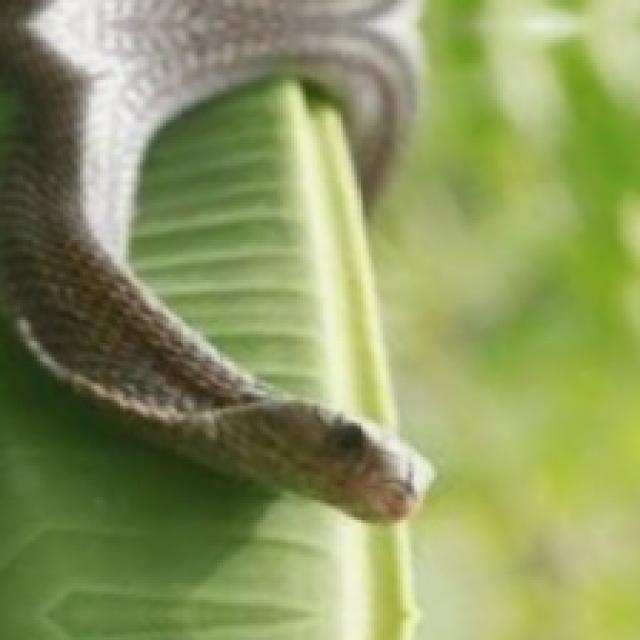philippine cobra: (0, 0, 429, 520)
